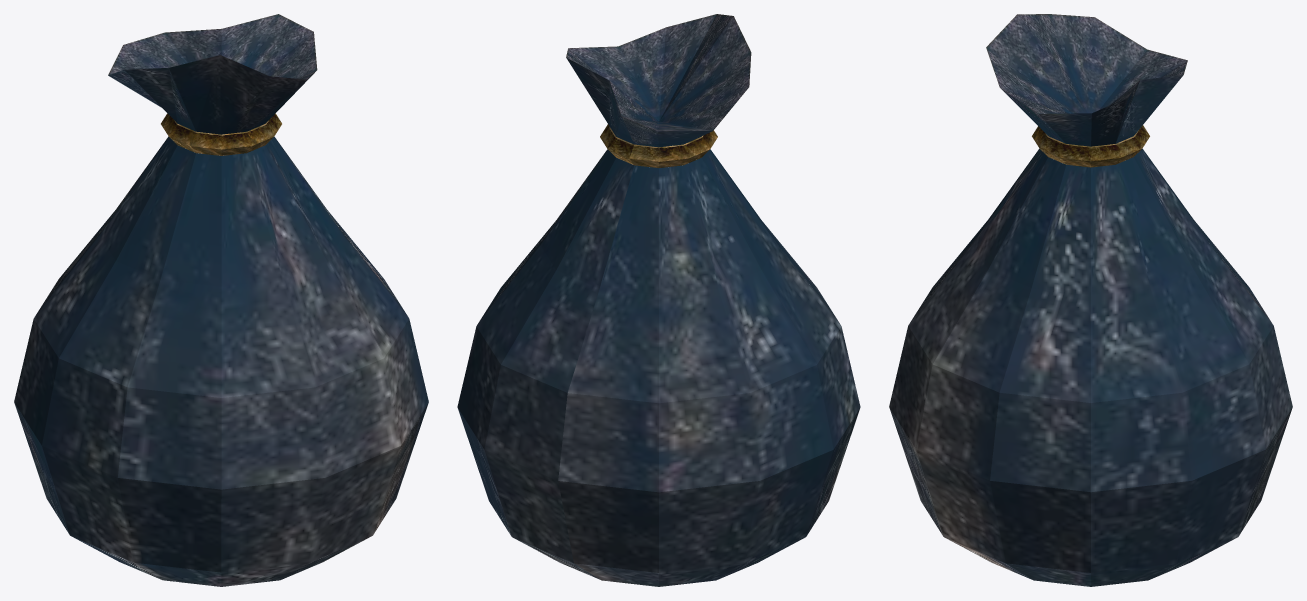
The model's file is GS_MIX_BLUE_01_SZCZAWIK.glb.
The picture shows the model from 3 angles, left to right: view 1: azimuth 30°, elevation 25°; view 2: azimuth 150°, elevation 25°; view 3: azimuth 270°, elevation 25°; orthographic projection. The views are drawn at different scales.
Parts seen in each view (by area): view 1: GS_MIX_BLUE_01_SZCZAWIK; view 2: GS_MIX_BLUE_01_SZCZAWIK; view 3: GS_MIX_BLUE_01_SZCZAWIK.
Boxes of the visible parts, <box> form: GS_MIX_BLUE_01_SZCZAWIK: <box>14,14,428,586</box>; GS_MIX_BLUE_01_SZCZAWIK: <box>457,14,860,586</box>; GS_MIX_BLUE_01_SZCZAWIK: <box>889,14,1292,586</box>.
Size of the model in its own units: 0.2801 by 0.3871 by 0.2801.
2 materials, 2 textured.
